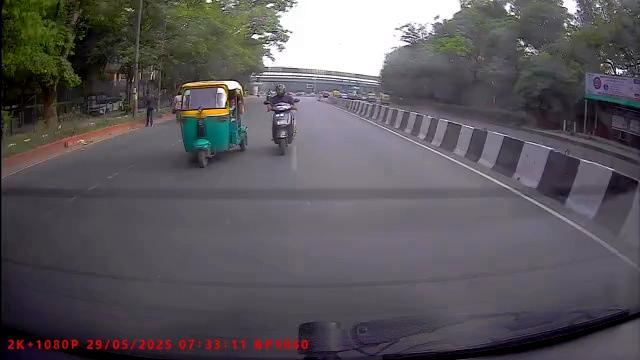motorcycle_with_helmet: (266, 82, 299, 157)
